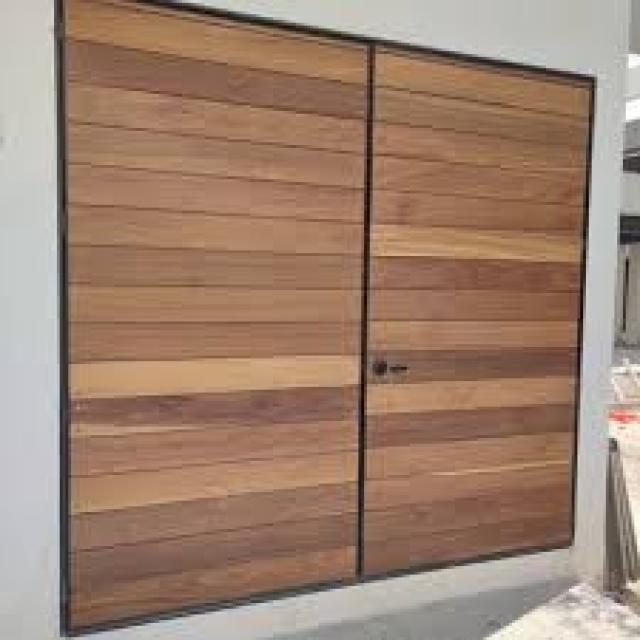door: (57, 0, 597, 637)
